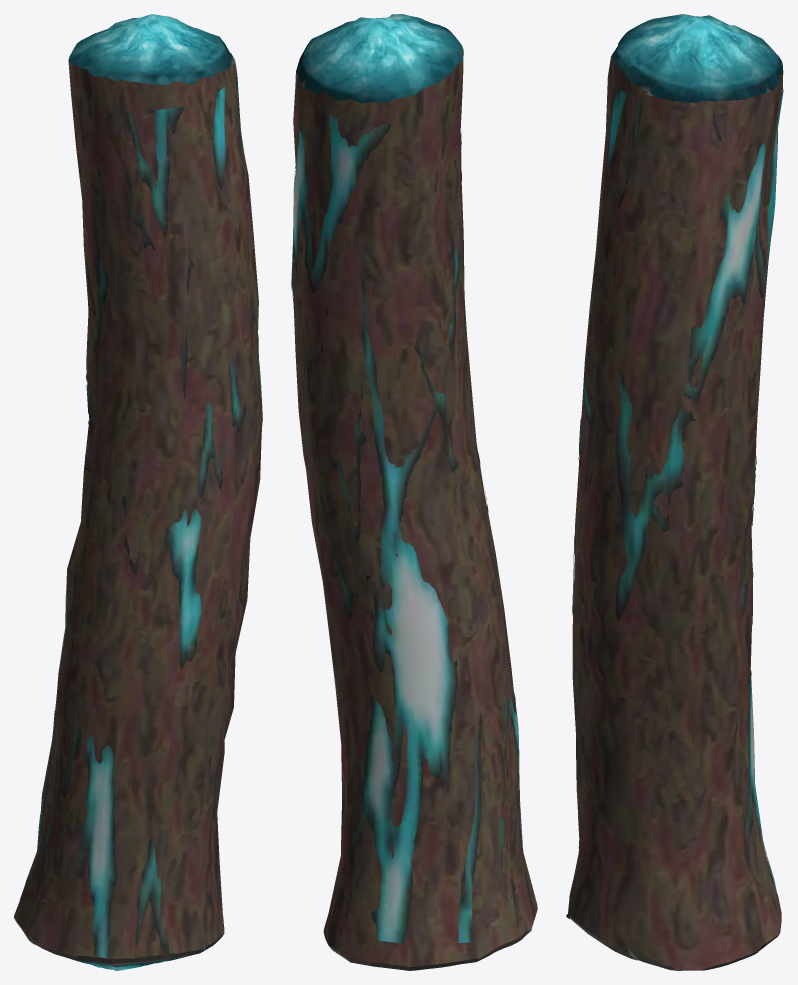
The picture shows the model from 3 angles, left to right: view 1: azimuth 30°, elevation 25°; view 2: azimuth 150°, elevation 25°; view 3: azimuth 270°, elevation 25°; orthographic projection. The views are drawn at different scales.
Visible parts, largest first — view 1: SM_MagicTree_01_half_bottom_LOD0; view 2: SM_MagicTree_01_half_bottom_LOD0; view 3: SM_MagicTree_01_half_bottom_LOD0.
Part boxes in pixels (<box>): SM_MagicTree_01_half_bottom_LOD0: <box>14,14,262,970</box>; SM_MagicTree_01_half_bottom_LOD0: <box>291,14,537,970</box>; SM_MagicTree_01_half_bottom_LOD0: <box>566,14,783,970</box>.
Size of the model in its own units: 1.06 by 4.31 by 0.8917.
1 material, 1 textured.
